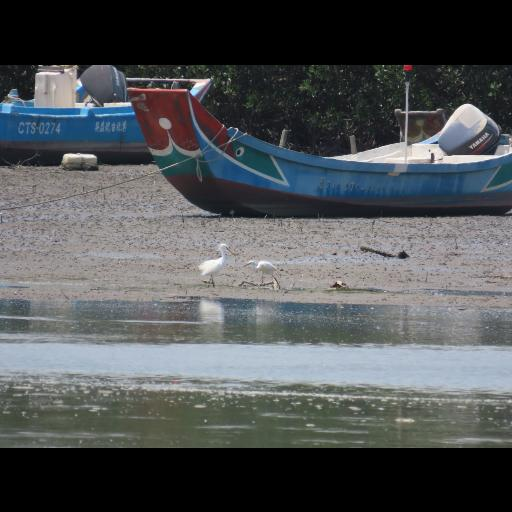chinese_egret: (198, 242, 234, 288), (244, 258, 284, 290)
